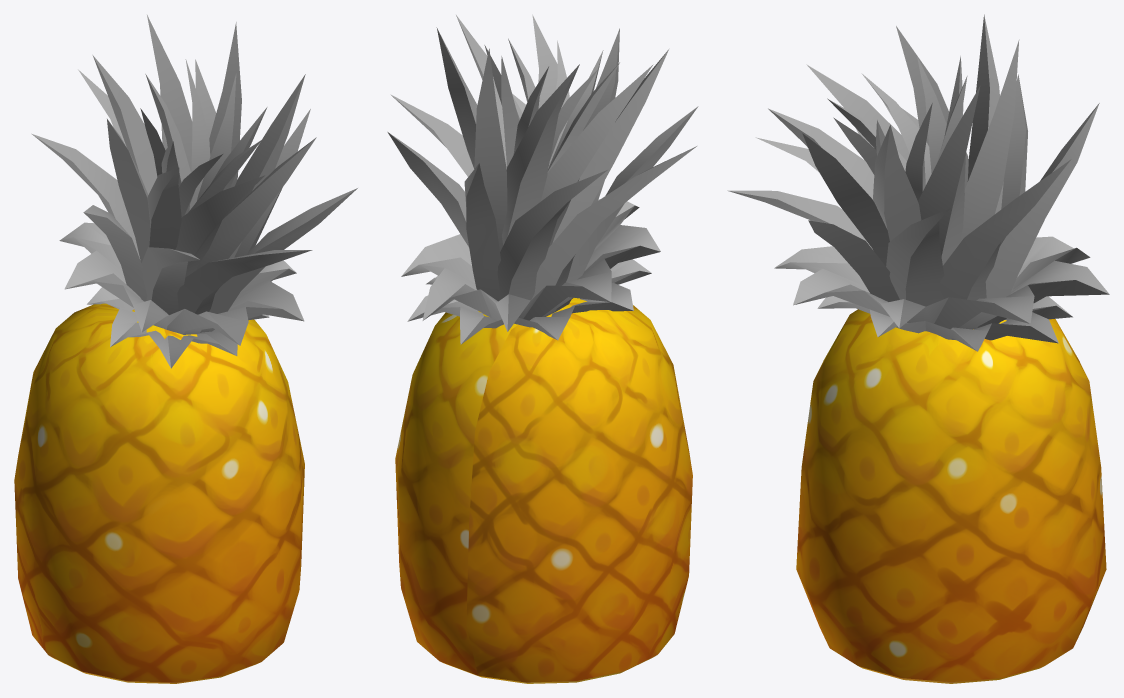
The model's file is BG_PineApple.fbx.
3 renders of one model, left to right at view 1: azimuth 30°, elevation 25°; view 2: azimuth 150°, elevation 25°; view 3: azimuth 270°, elevation 25°, orthographic. The views are drawn at different scales.
Parts seen in each view (by area): view 1: Store4, PineAppleLeaf2; view 2: Store4, PineAppleLeaf2; view 3: Store4, PineAppleLeaf2.
Boxes of the visible parts, left/top/right/bottom form: Store4: left=14, top=303, right=304, bottom=683; PineAppleLeaf2: left=31, top=15, right=357, bottom=368; Store4: left=395, top=298, right=692, bottom=683; PineAppleLeaf2: left=387, top=14, right=698, bottom=344; Store4: left=796, top=309, right=1106, bottom=683; PineAppleLeaf2: left=727, top=14, right=1109, bottom=351.
Size of the model in its own units: 386 by 782 by 450.
